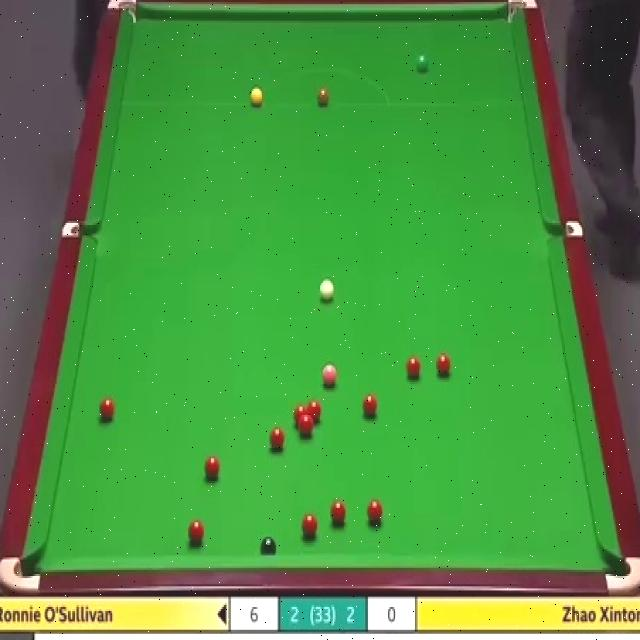black-ball: (260, 536, 278, 557)
brown-ball: (317, 84, 329, 106)
green-ball: (413, 52, 429, 74)
pink-ball: (322, 364, 338, 390)
red-ball: (98, 396, 116, 424), (359, 391, 377, 418), (436, 352, 453, 380), (187, 518, 204, 546), (300, 512, 318, 538), (330, 499, 347, 525), (366, 500, 383, 526), (406, 354, 422, 381), (270, 427, 286, 452), (293, 404, 308, 430), (204, 457, 221, 478), (308, 400, 322, 424), (299, 418, 315, 438)
white-ball: (318, 278, 334, 301)
yellow-ball: (249, 88, 264, 106)
